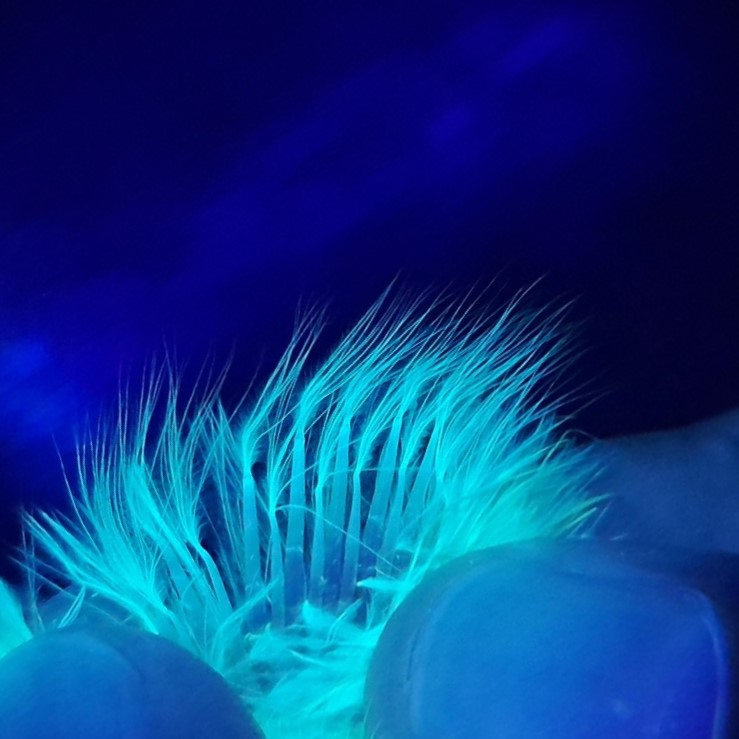female: (213, 397, 453, 662)
